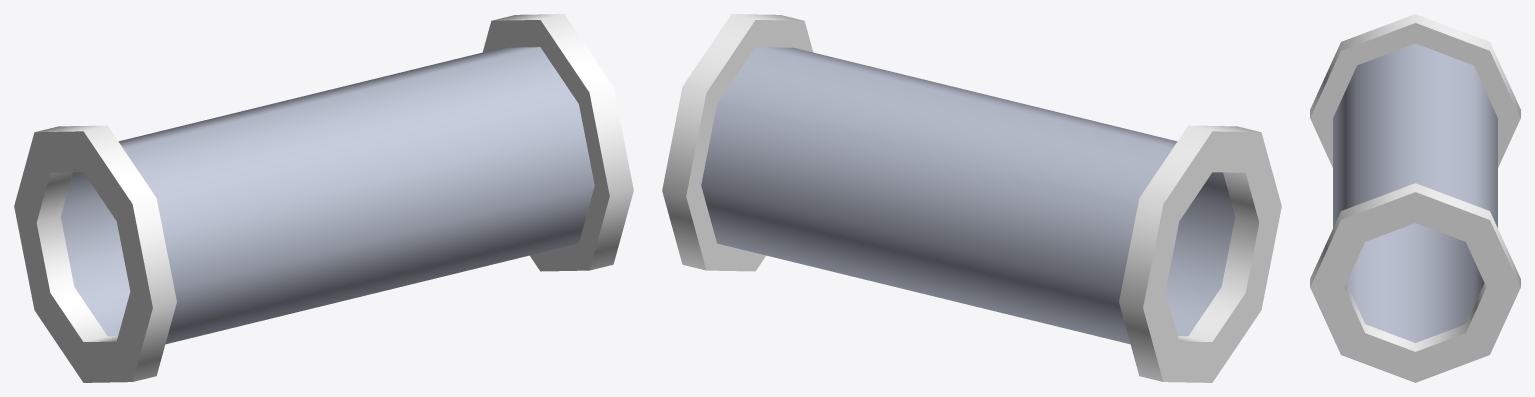
File: pipe-glass-large-long.glb
The picture shows the model from 3 angles, left to right: view 1: azimuth 30°, elevation 25°; view 2: azimuth 150°, elevation 25°; view 3: azimuth 270°, elevation 25°; orthographic projection. The views are drawn at different scales.
Parts seen in each view (by area): view 1: pipe-glass-large-long; view 2: pipe-glass-large-long; view 3: pipe-glass-large-long.
Boxes of the visible parts, x1,y1,x2,y2 form: pipe-glass-large-long: [14, 14, 633, 382]; pipe-glass-large-long: [662, 14, 1281, 382]; pipe-glass-large-long: [1310, 14, 1520, 382].
Size of the model in its own units: 2 by 1 by 1.
